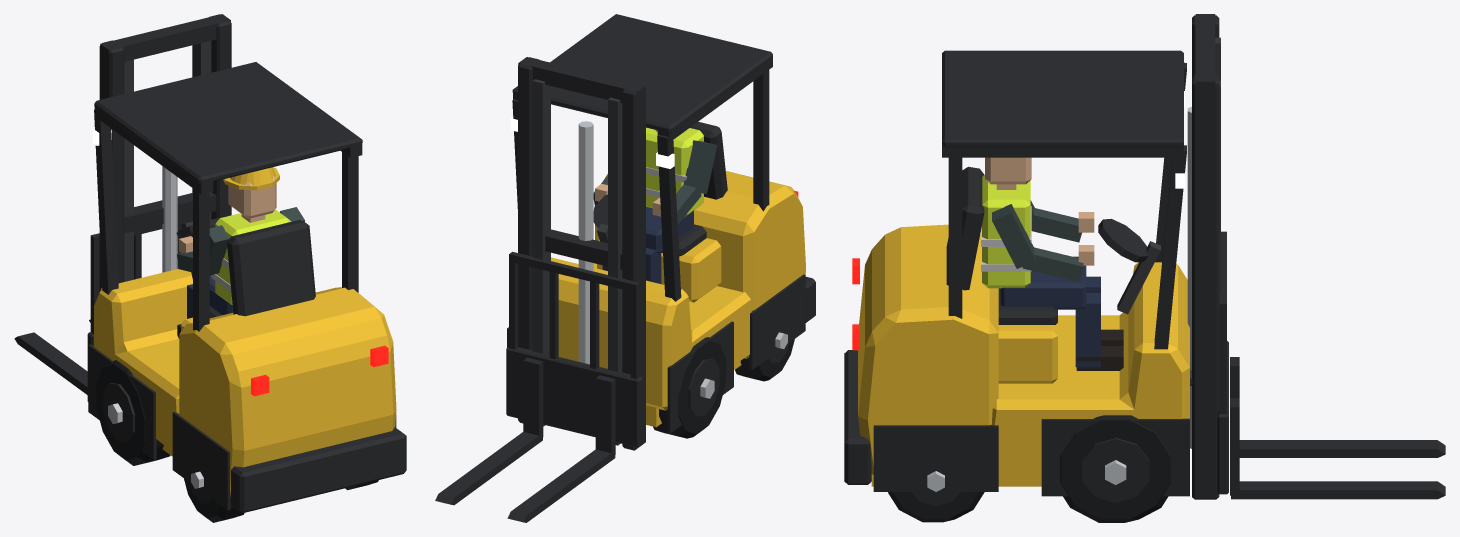
The model's file is forklift.glb.
The picture shows the model from 3 angles, left to right: view 1: azimuth 30°, elevation 25°; view 2: azimuth 150°, elevation 25°; view 3: azimuth 270°, elevation 25°; orthographic projection. The views are drawn at different scales.
Visible parts, largest first — view 1: Body, Driver, Wheel_FL, Forks, Wheel_RL; view 2: Body, Forks, Driver, Wheel_FL, Wheel_RL; view 3: Body, Driver, Forks, Wheel_FR, Wheel_RR.
Boxes of the visible parts, left/top/right/bottom form: Body: left=88, top=14, right=406, bottom=513; Driver: left=177, top=167, right=304, bottom=338; Wheel_FL: left=96, top=360, right=170, bottom=465; Forks: left=14, top=217, right=192, bottom=401; Wheel_RL: left=184, top=471, right=244, bottom=522; Body: left=507, top=14, right=815, bottom=450; Forks: left=435, top=251, right=642, bottom=522; Driver: left=593, top=127, right=717, bottom=283; Wheel_FL: left=653, top=337, right=726, bottom=438; Wheel_RL: left=735, top=317, right=794, bottom=381; Body: left=844, top=14, right=1220, bottom=499; Driver: left=981, top=157, right=1123, bottom=370; Forks: left=1217, top=231, right=1445, bottom=499; Wheel_FR: left=1060, top=415, right=1171, bottom=522; Wheel_RR: left=888, top=471, right=984, bottom=522.
Bounding box in the file's own units: 1.24 × 2.44 × 3.08.
